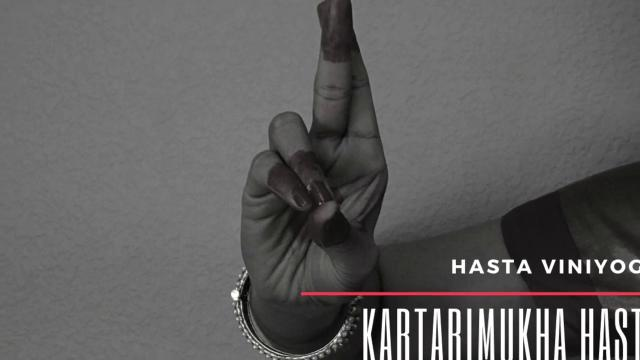kartarimukh: (212, 0, 424, 356)
